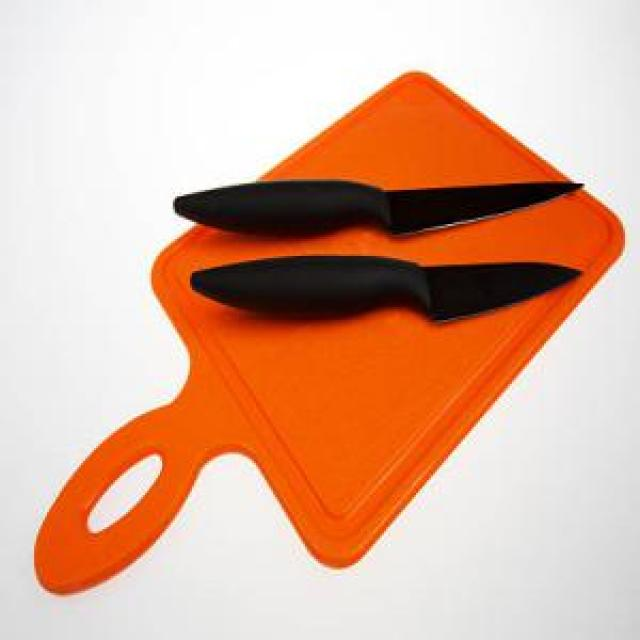knife: (190, 258, 589, 324), (175, 177, 586, 240)
